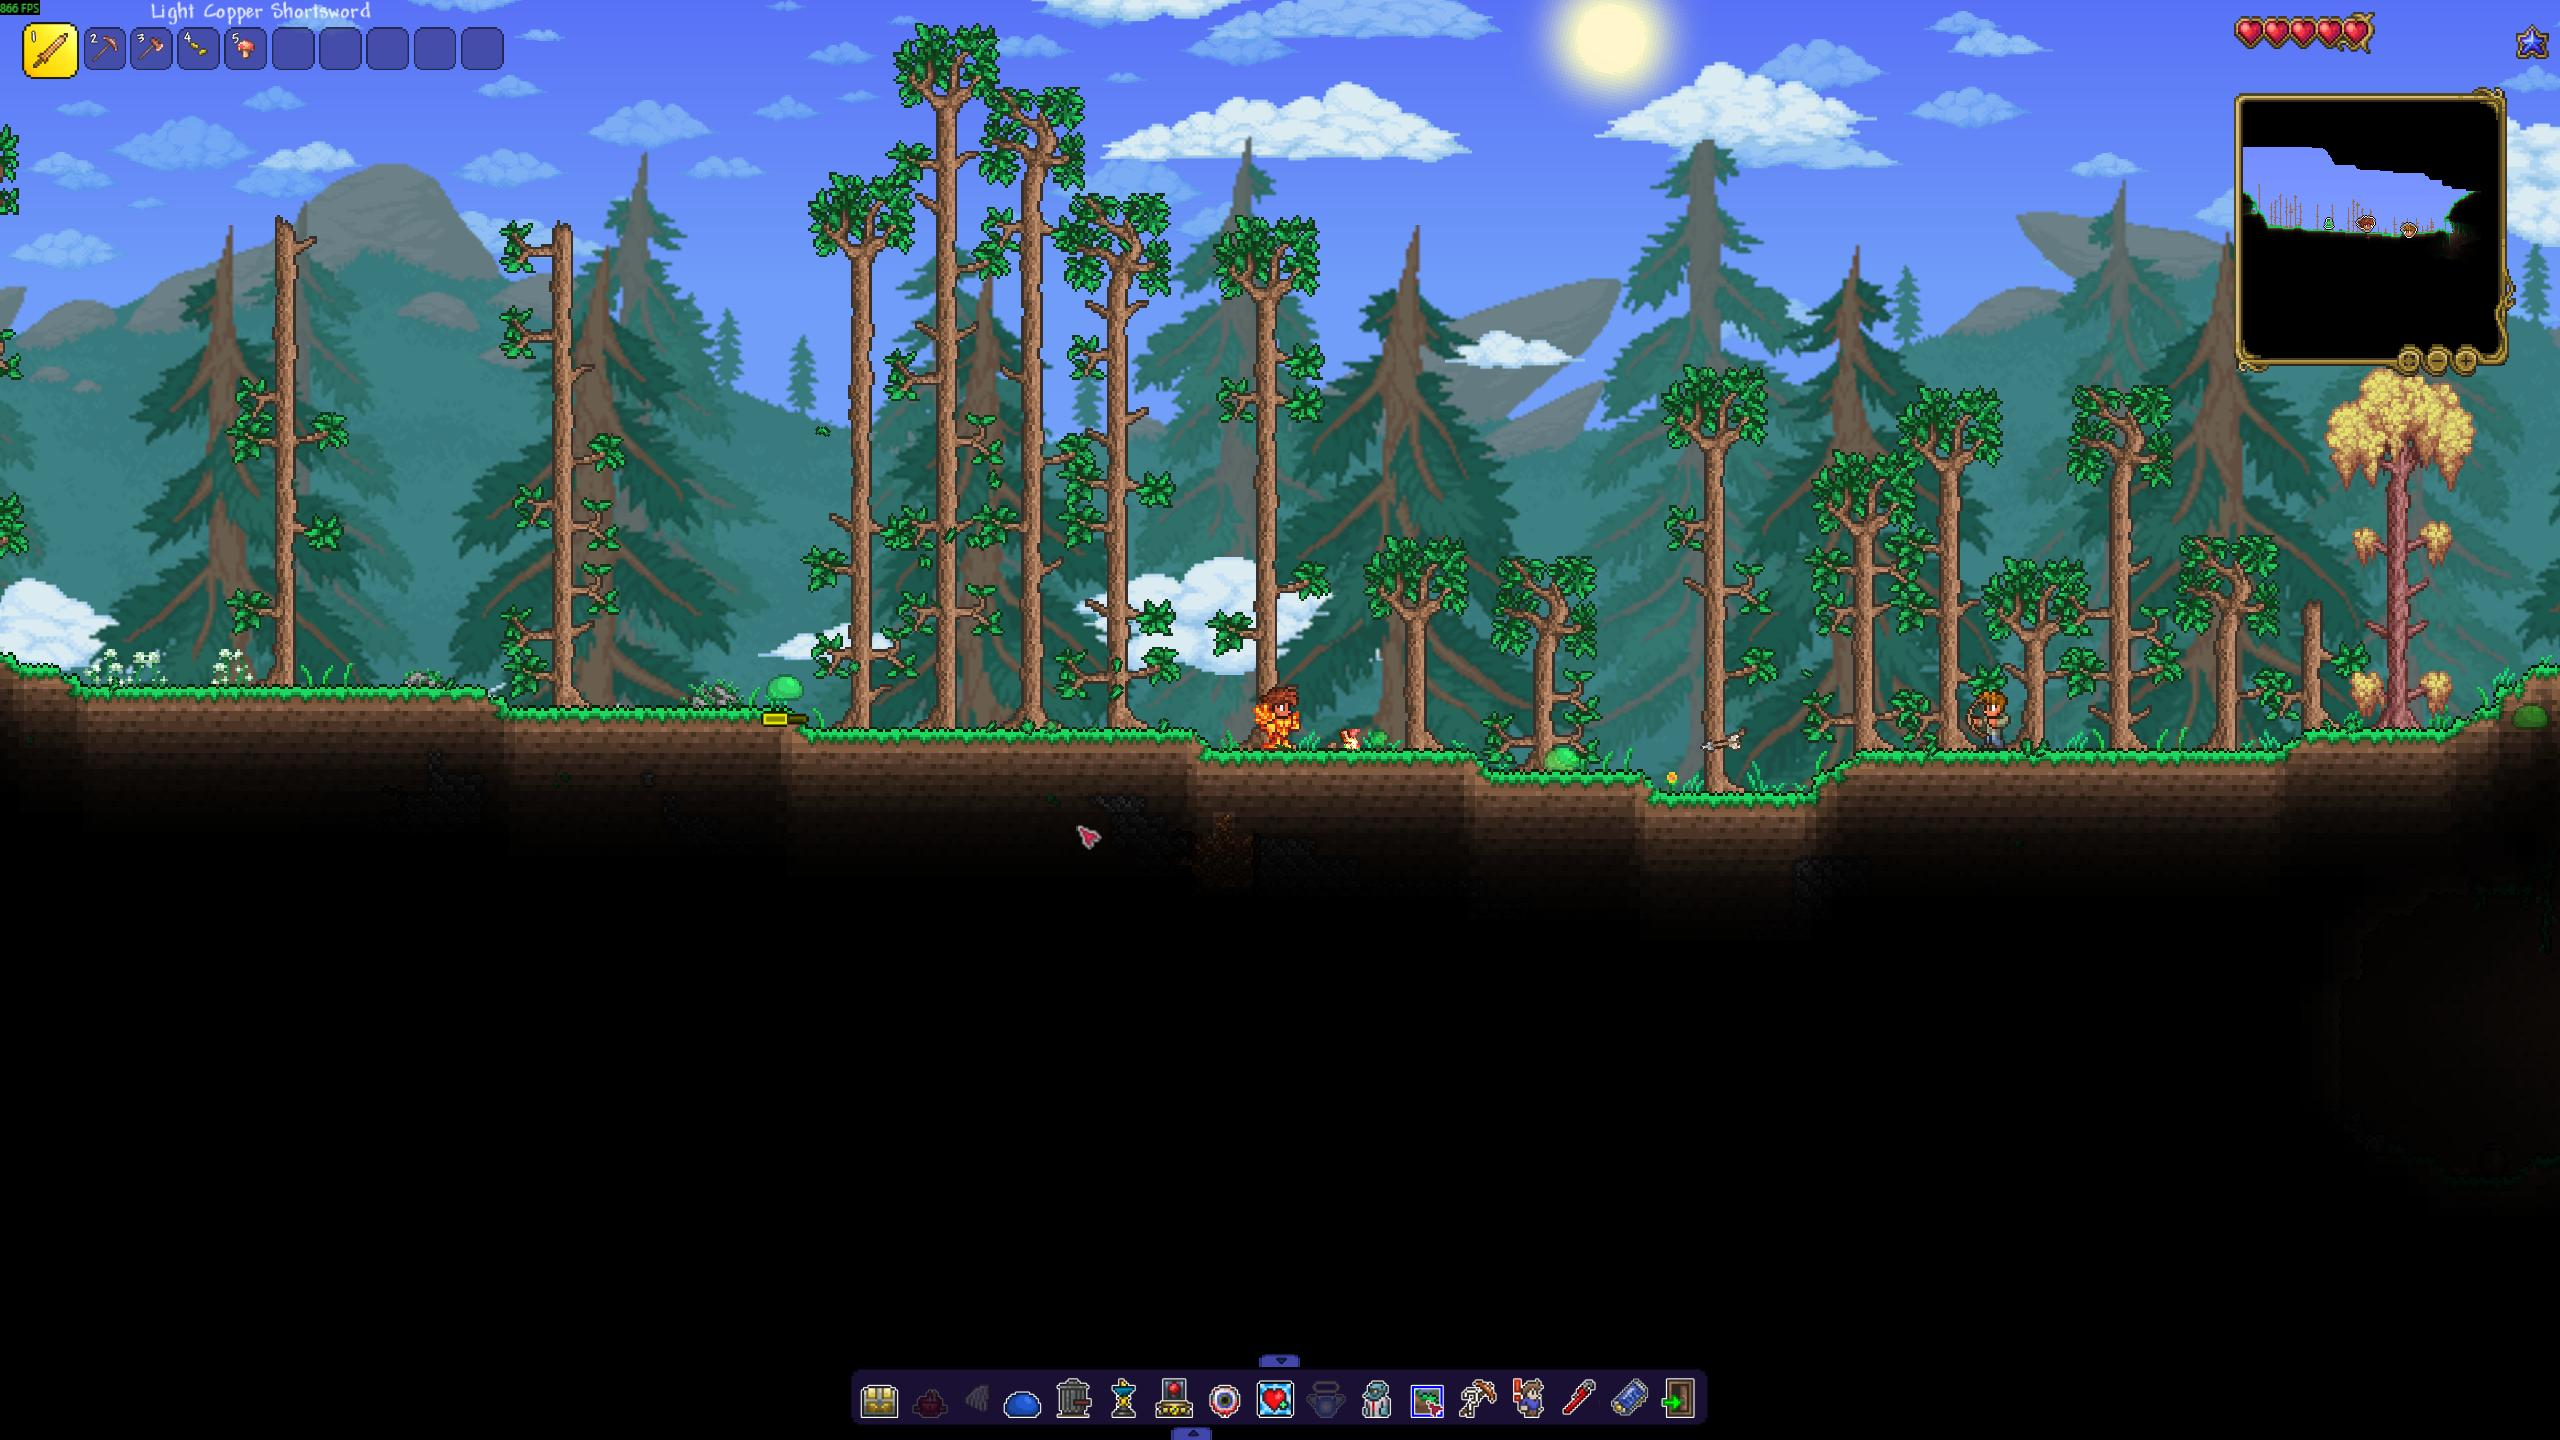Green Slime: (1540, 740, 1581, 777), (763, 672, 807, 703)
